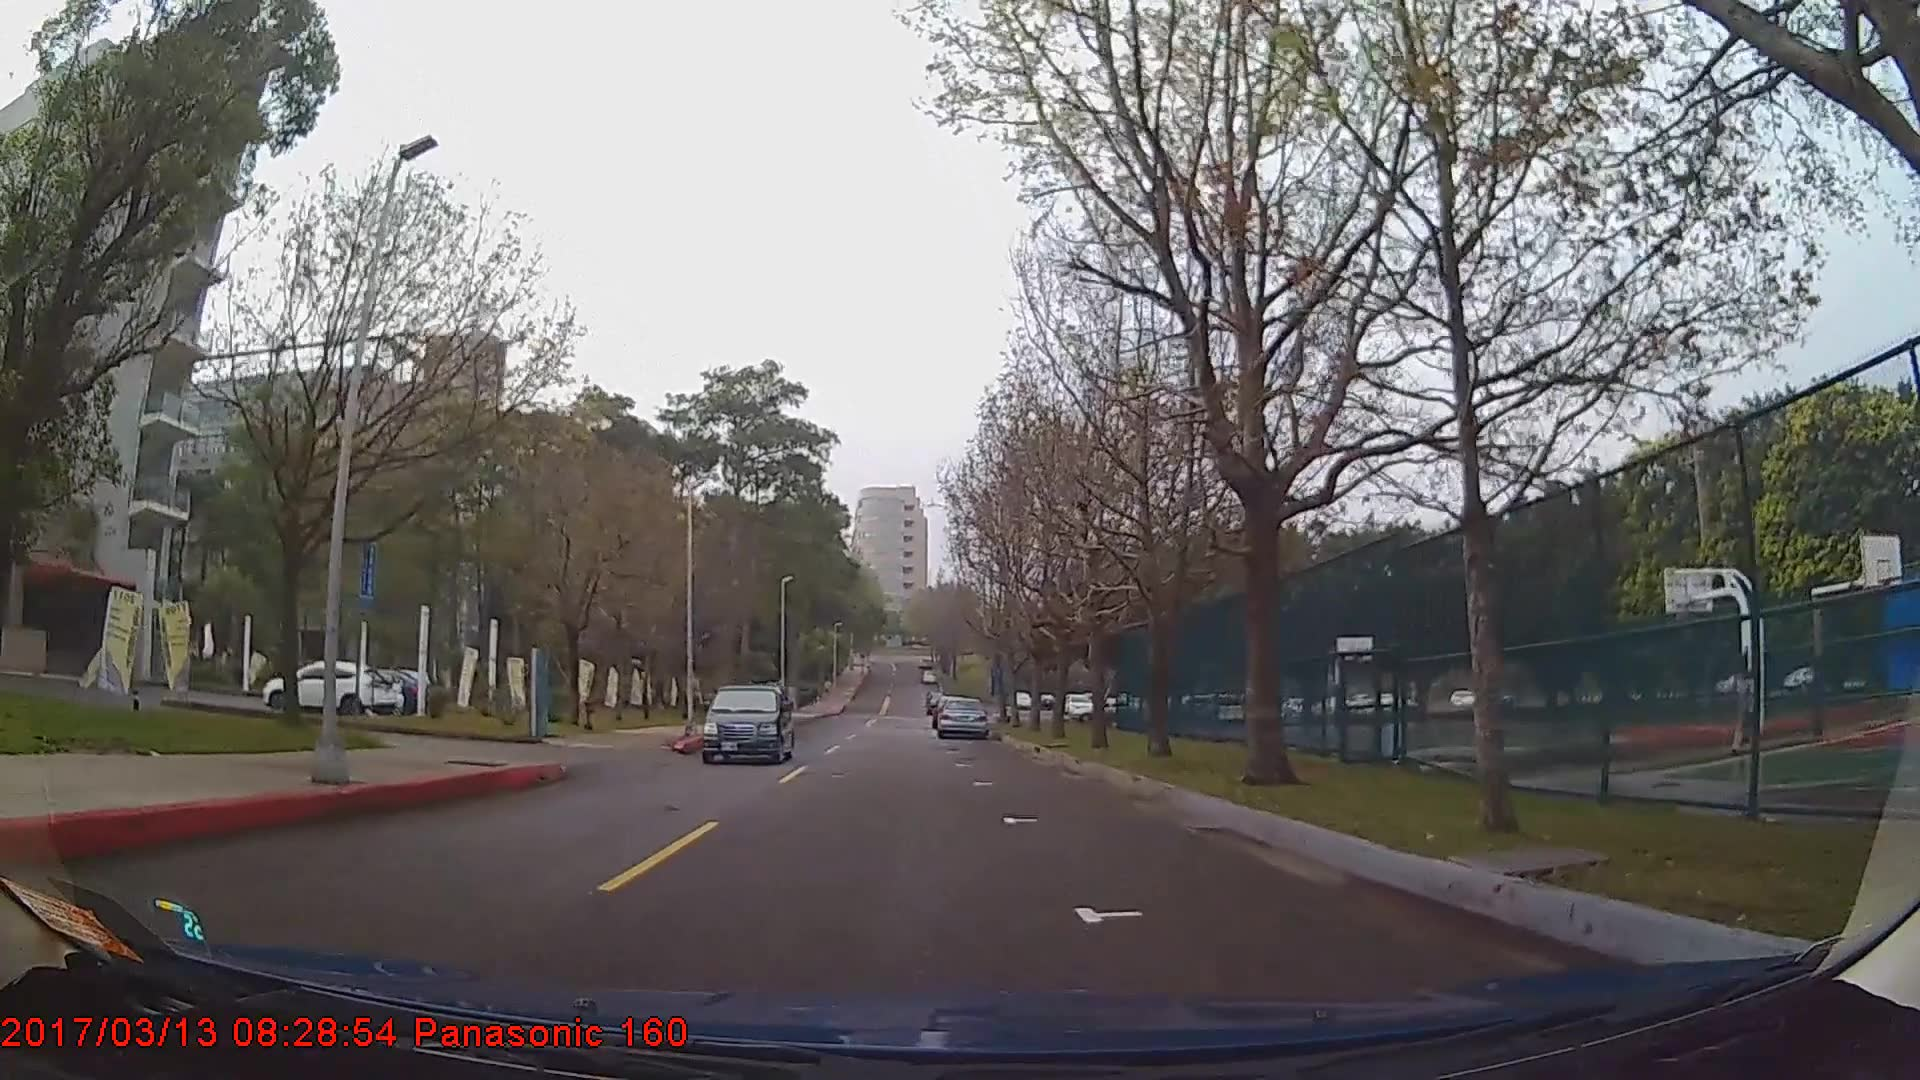vehicle: (699, 682, 796, 765), (262, 658, 393, 717), (935, 695, 986, 738)
